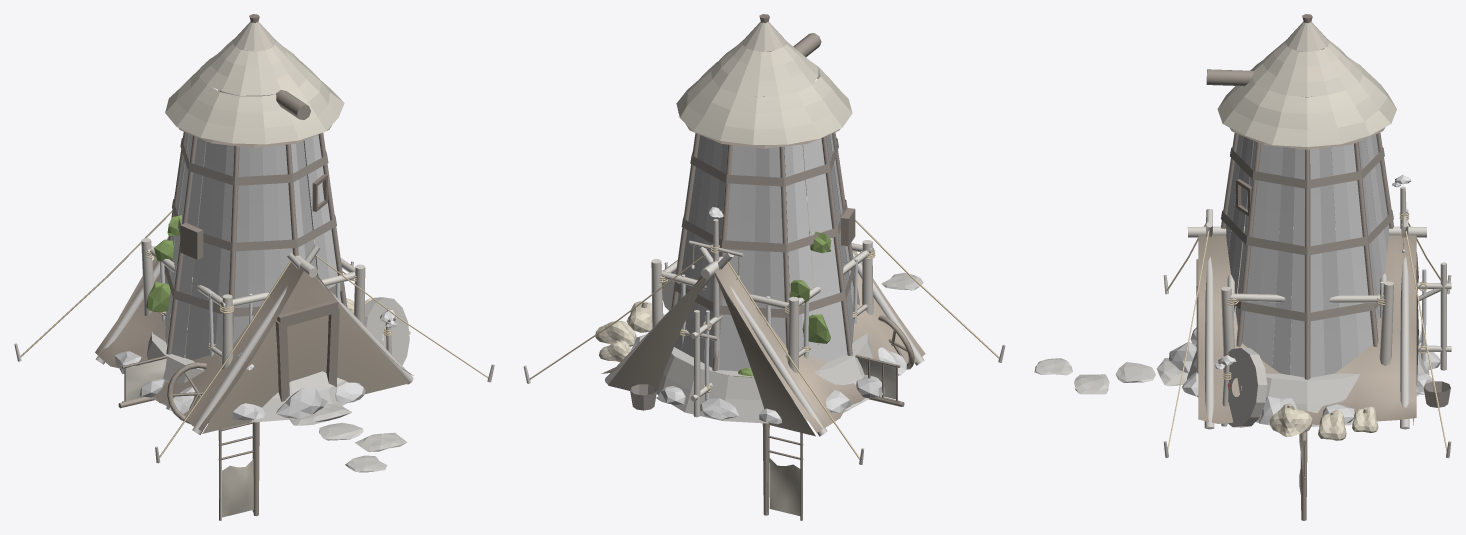
The model's file is structures.glb.
3 renders of one model, left to right at view 1: azimuth 30°, elevation 25°; view 2: azimuth 150°, elevation 25°; view 3: azimuth 270°, elevation 25°, orthographic.
Visible parts, largest first — view 1: mill_body, ork_tent, mill_sails, ork_cage; view 2: mill_body, ork_tent, ork_cage, mill_sails, ork_cage_door, ork_banner; view 3: mill_body, ork_tent, ork_cage, ork_cage_door, mill_sails, ork_banner, ork_spikes.
Boxes of the visible parts, x1,y1,x2,y2 form: mill_body: (114,14,410,472); ork_tent: (14,210,494,463); mill_sails: (118,355,259,520); ork_cage: (141,238,365,369); mill_body: (595,14,923,424); ork_tent: (523,196,1005,464); ork_cage: (651,240,875,401); mill_sails: (636,337,904,520); ork_cage_door: (690,310,729,417); ork_banner: (688,207,744,373); mill_body: (1034,14,1440,440); ork_tent: (1163,209,1451,458); ork_cage: (1221,273,1393,365); ork_cage_door: (1417,262,1451,370); mill_sails: (1299,431,1307,520); ork_banner: (1392,175,1410,253); ork_spikes: (1215,352,1236,426).
Size of the model in its own units: 5.72 by 8.02 by 6.02.
